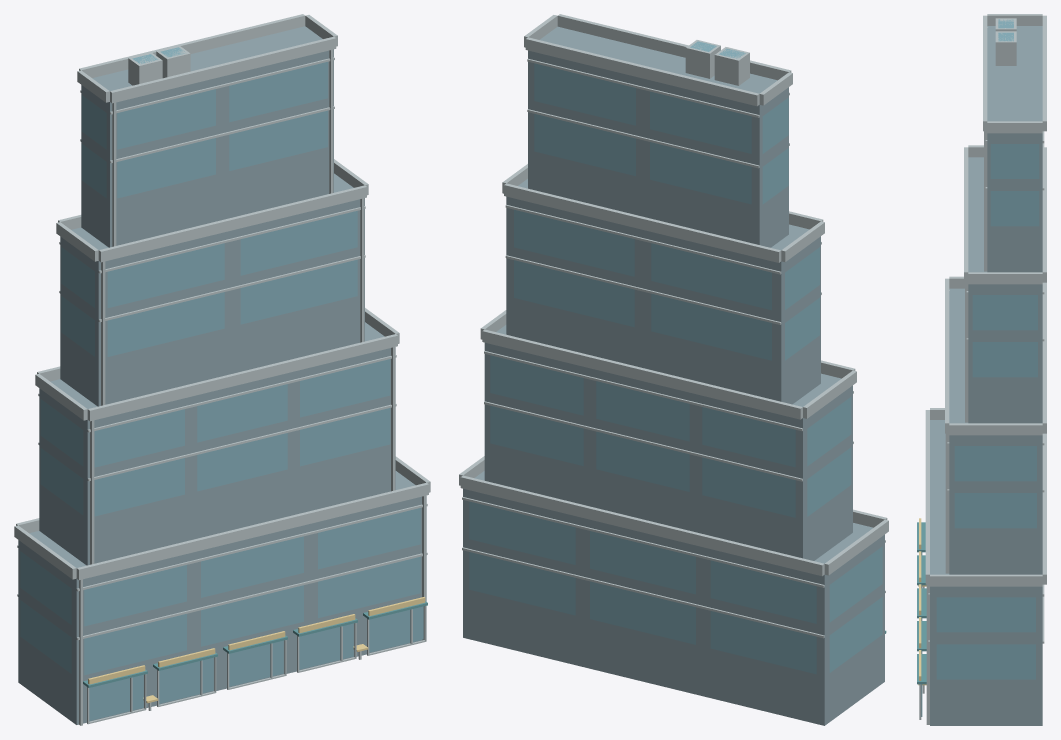
Rendered from commercial_3x1_terraces.glb.
3 renders of one model, left to right at view 1: azimuth 30°, elevation 25°; view 2: azimuth 150°, elevation 25°; view 3: azimuth 270°, elevation 25°, orthographic. The views are drawn at different scales.
Parts seen in each view (by area): view 1: commercial_3x1_terraces_0; view 2: commercial_3x1_terraces_0; view 3: commercial_3x1_terraces_0.
Part boxes in pixels (x1,y1,x2,y2): commercial_3x1_terraces_0: [14, 14, 430, 725]; commercial_3x1_terraces_0: [459, 14, 888, 725]; commercial_3x1_terraces_0: [917, 14, 1046, 725].
Size of the model in its own units: 23 by 37.5 by 7.5.
